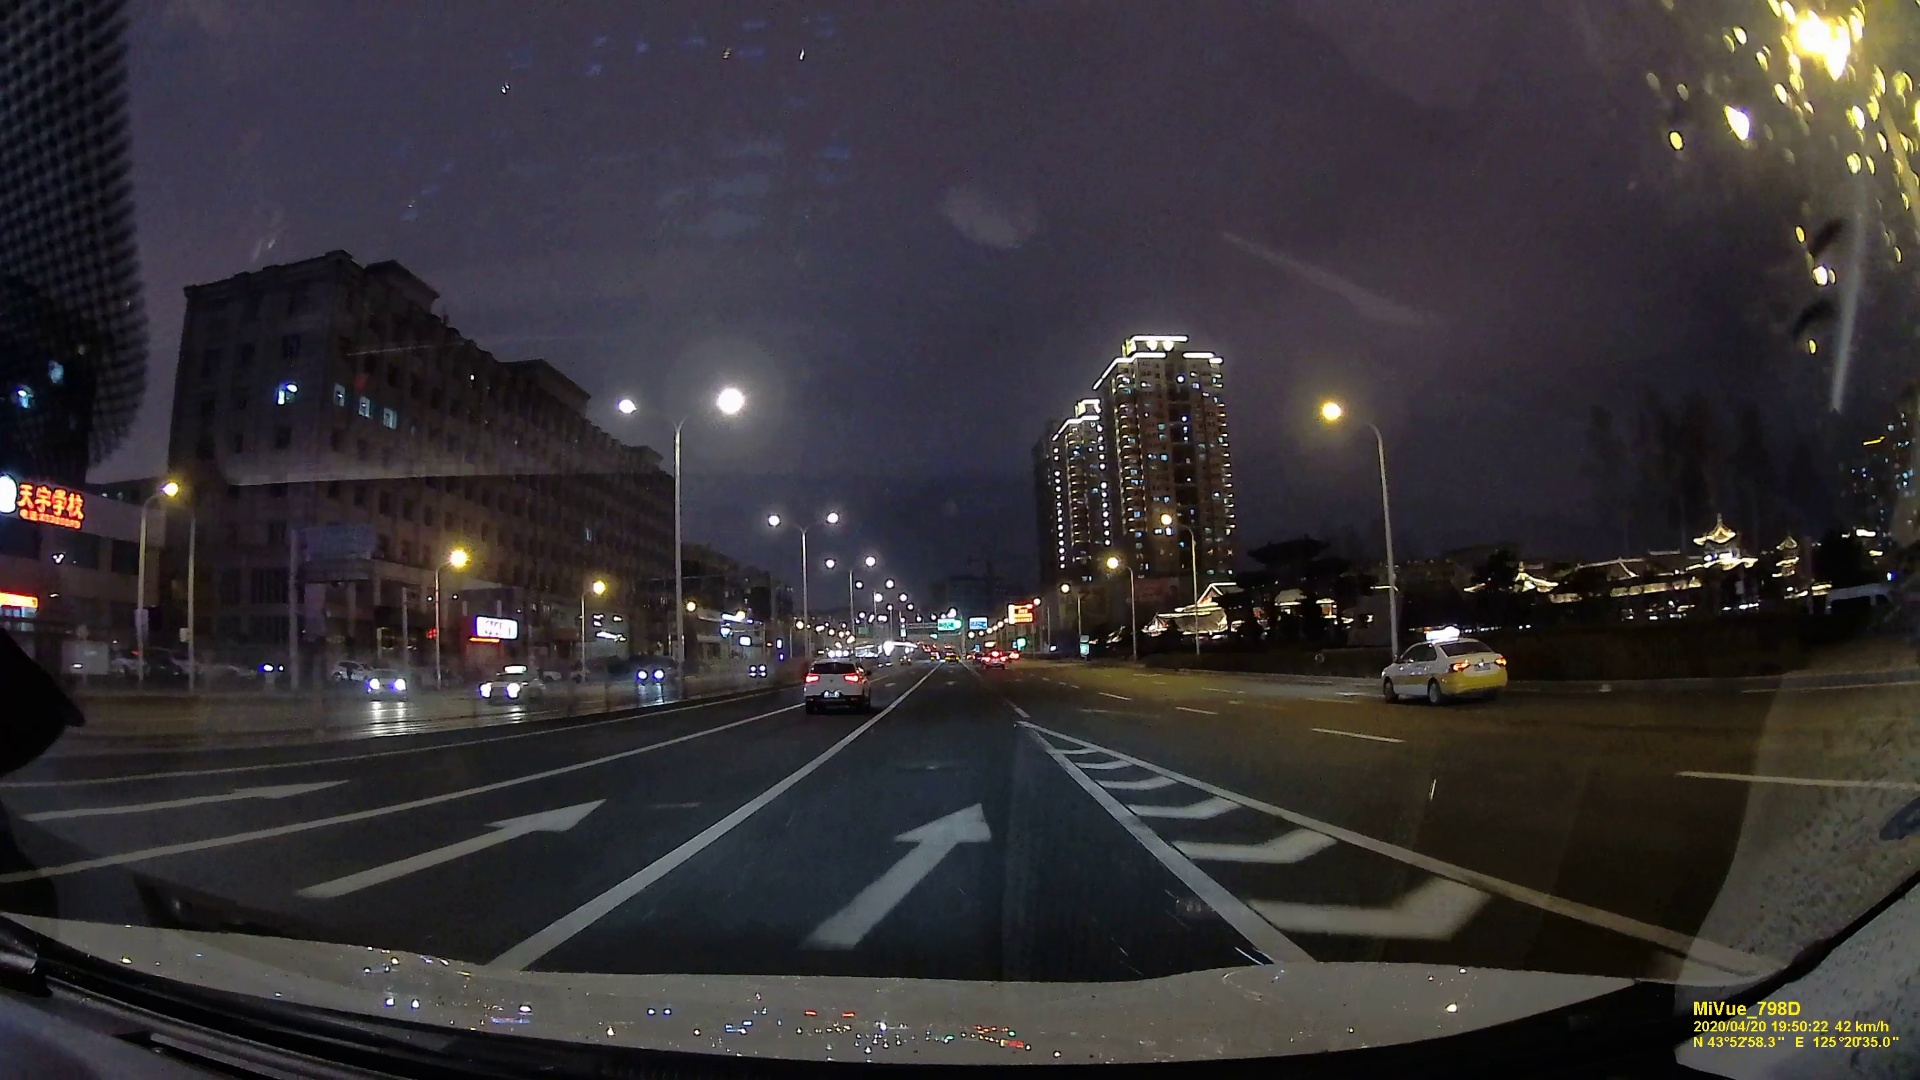traffic_sign: (971, 617, 988, 630), (938, 618, 956, 630)
vehicle: (1383, 636, 1513, 705), (803, 657, 874, 712), (477, 669, 543, 704), (359, 669, 409, 698), (636, 662, 679, 686), (984, 651, 1006, 669)
